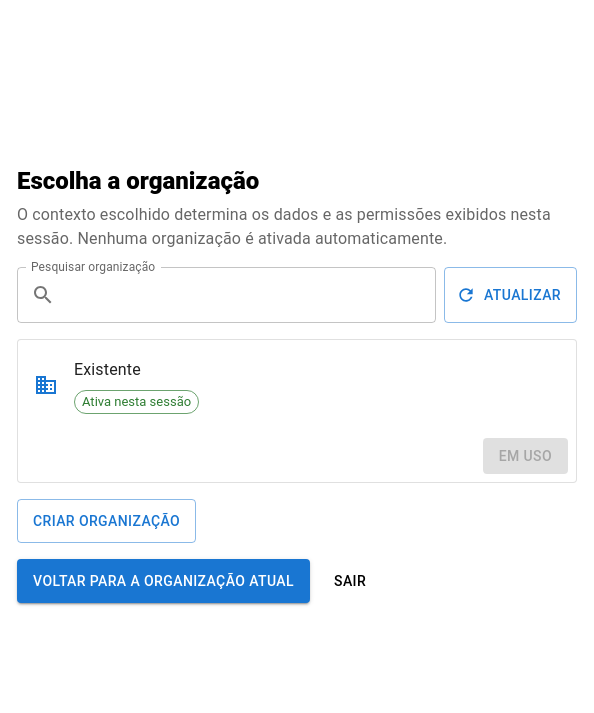
Scenario: OrganizationSelectionPage › ADMIN executa criacao em duas etapas sem autoativar
Click the button "Criar organização": [107, 521] box [17,499,196,543]
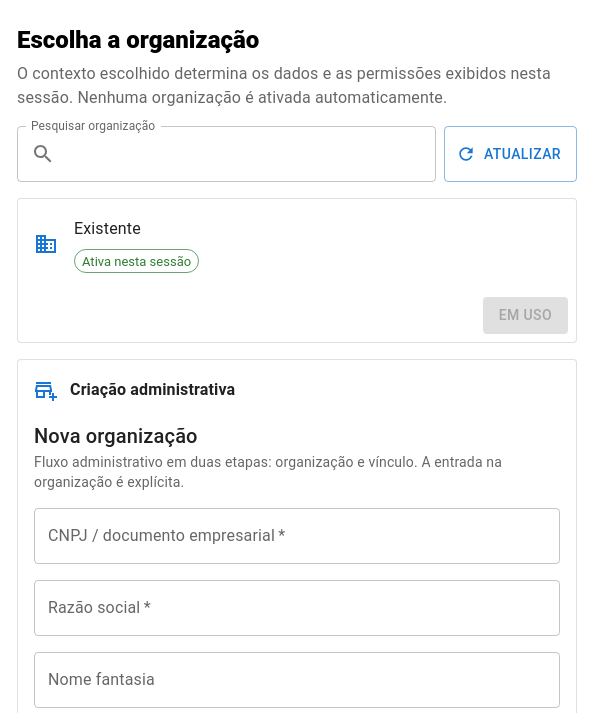
In the field labelled "CNPJ / documento empresarial": [297, 536] box [34,508,560,564], type "12345678000195"
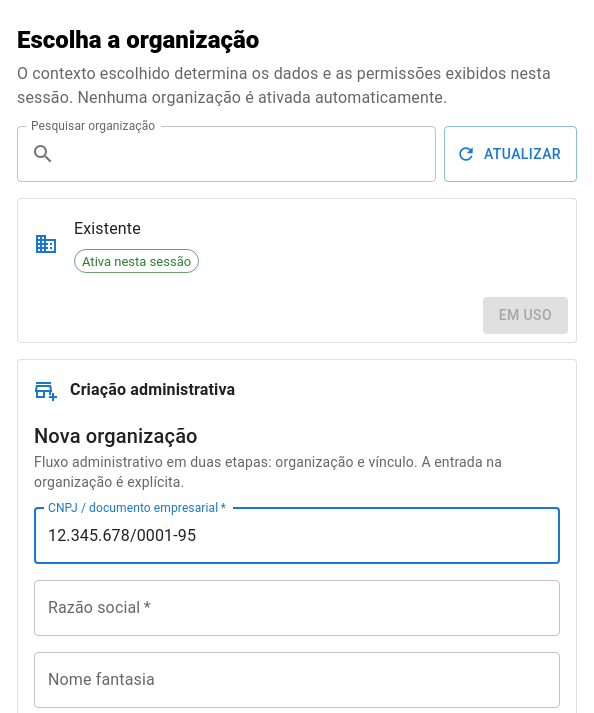
In the field labelled "Razão social": [297, 608] box [34,580,560,636], type "Nova Org"
(page scrolled)
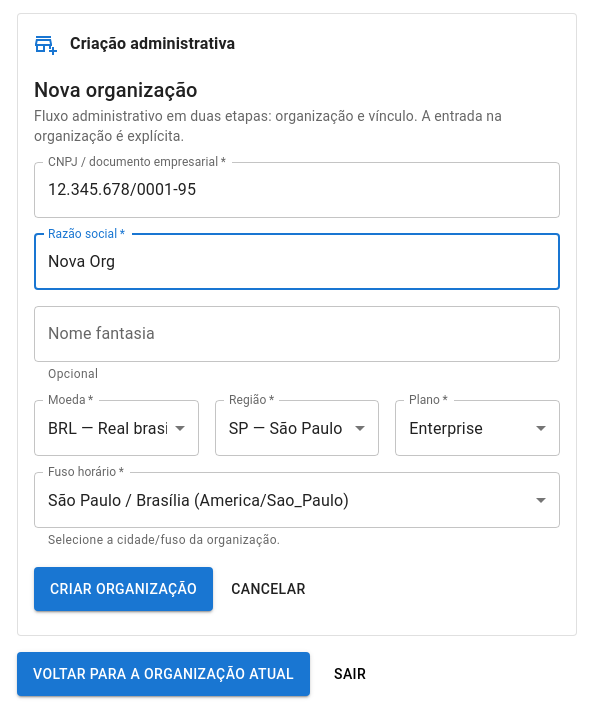
Click the button "Criar organização": [124, 589] box [34,567,213,611]
(page scrolled)
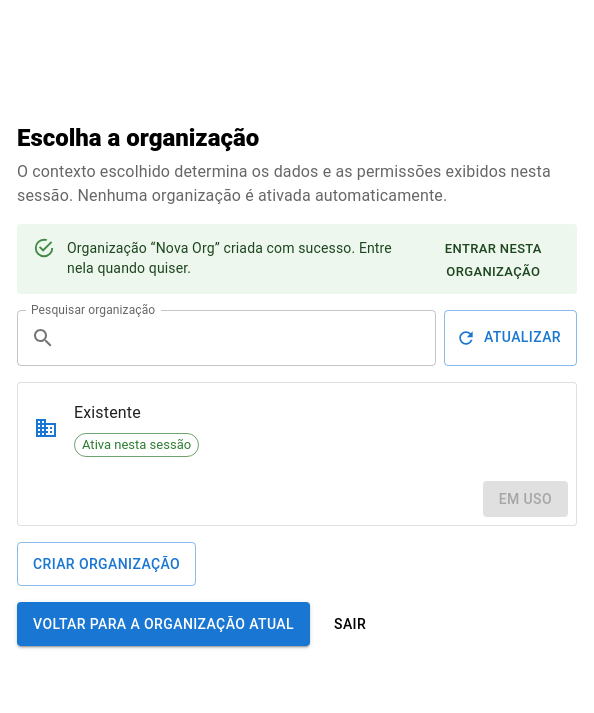
Now the button "Entrar nesta organização" is shown, box [418,234,569,288]
